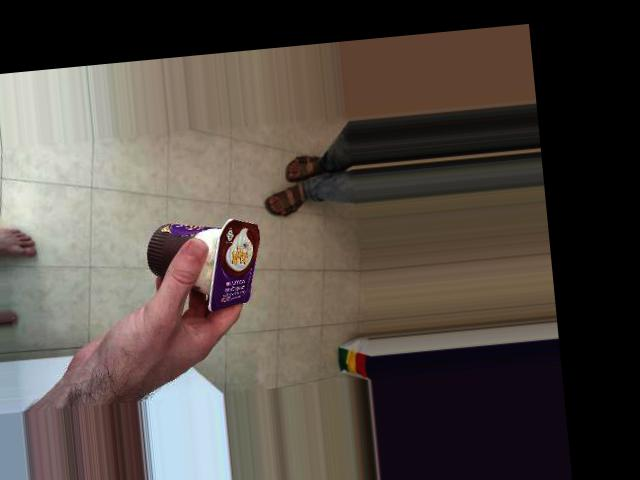milky: (178, 157, 275, 294)
